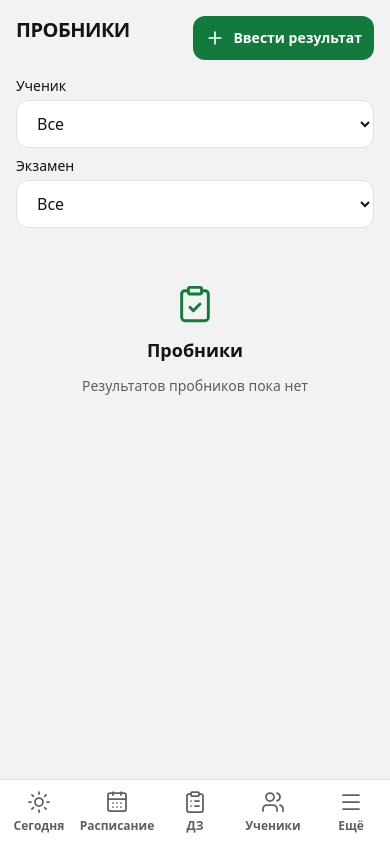
it: Пробники: форма ввода › нестандартный максимум (27): «Шкала не применима»
Expected: the text "Результатов пробников пока нет" is shown, [82,376,308,396]
Click the button "Ввести результат": (284, 38) [193,16,374,60]
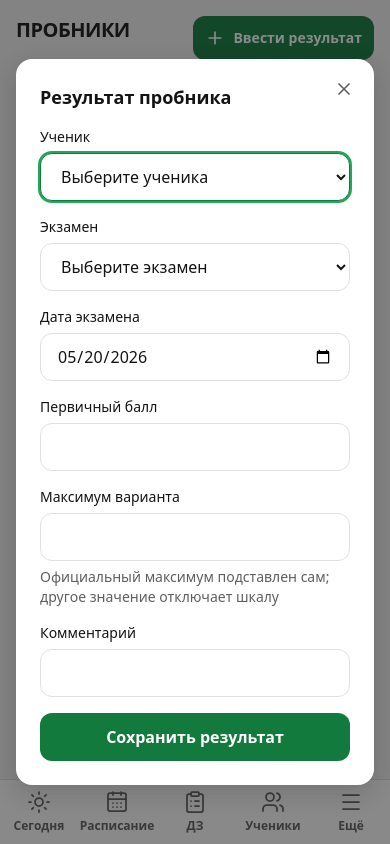
Select "ЕГЭ — Информатика" in the dropdown labelled "Экзамен": (195, 267) [40,243,350,291]
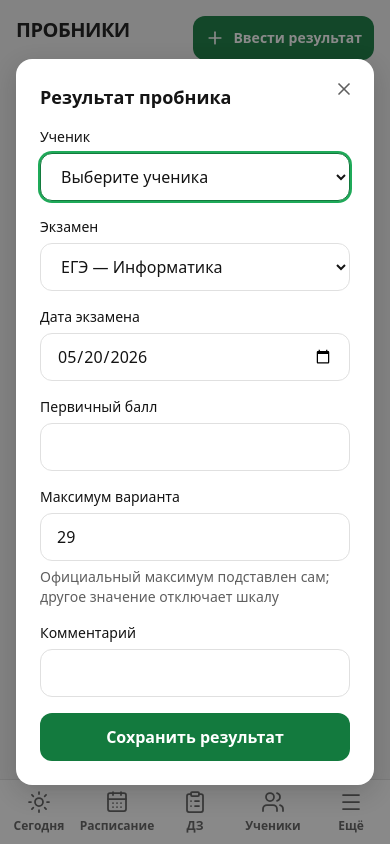
Replace the text in the field labelled "Максимум варианта" with "27": (195, 537) [40,513,350,561]
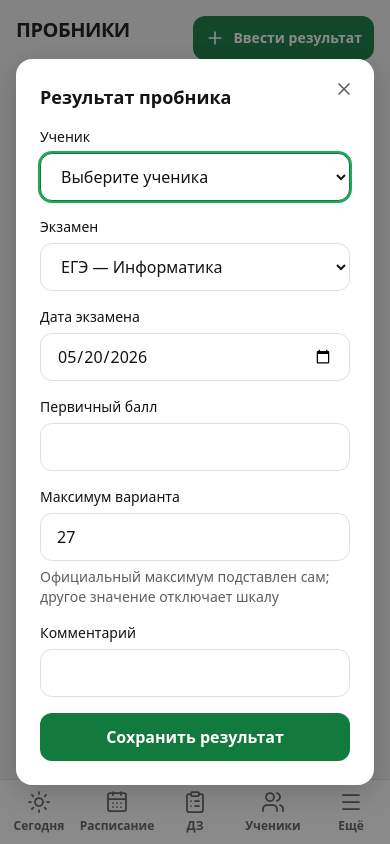
In the field labelled "Первичный балл": (195, 447) [40,423,350,471], type "20"
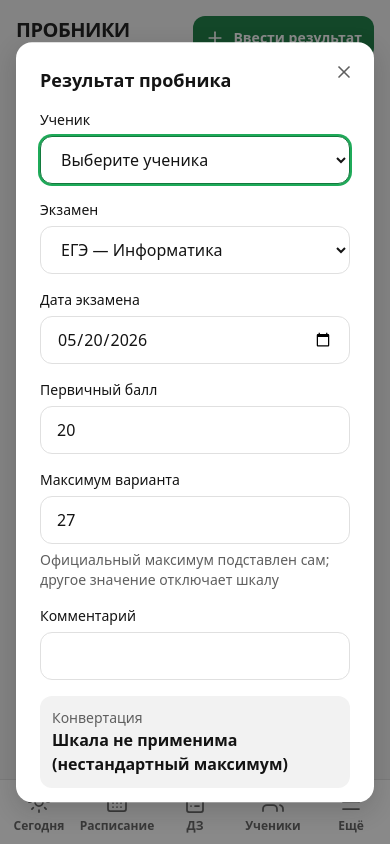
Result: the text "Шкала не применима (нестандартный максимум)" is shown at [52,729,288,775]
